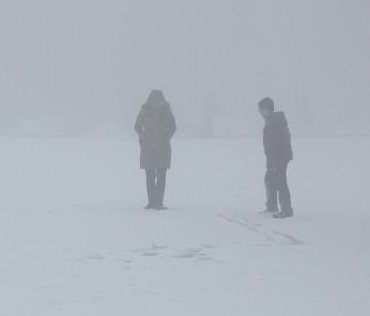person: (254, 94, 300, 222), (133, 88, 180, 213)
